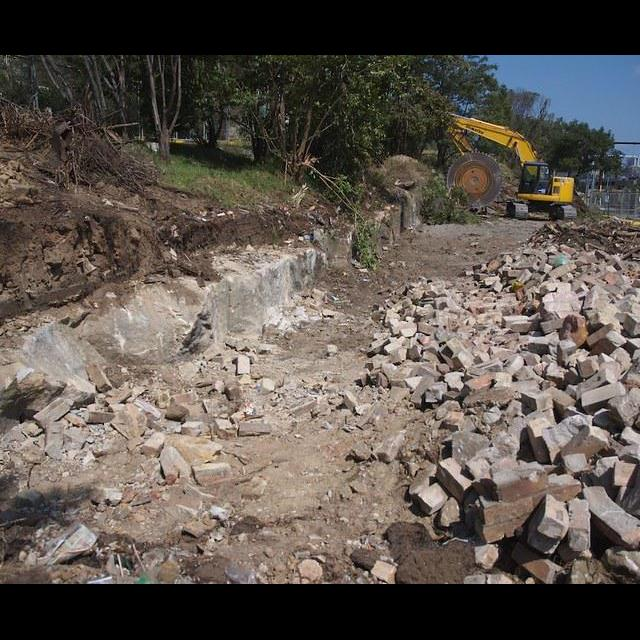Excavator: (439, 111, 578, 223)
